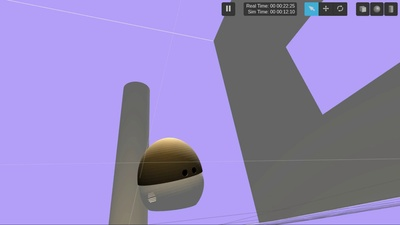mira_robot: (138, 137, 204, 212)
